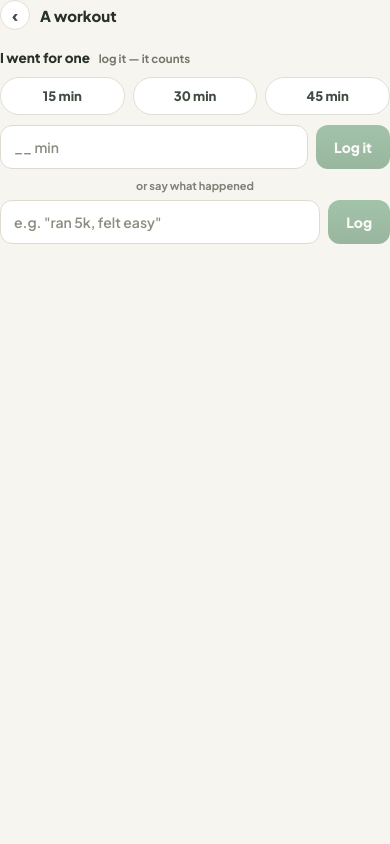
Scenario: QuickAddTense — honest failure keeps the step and shows a note › a duration chip whose log fails never tells the host it logged
The width and height of the screenshot is (390, 844).
Click the button "30 min". click: (195, 96)
box: [133,77,257,115]
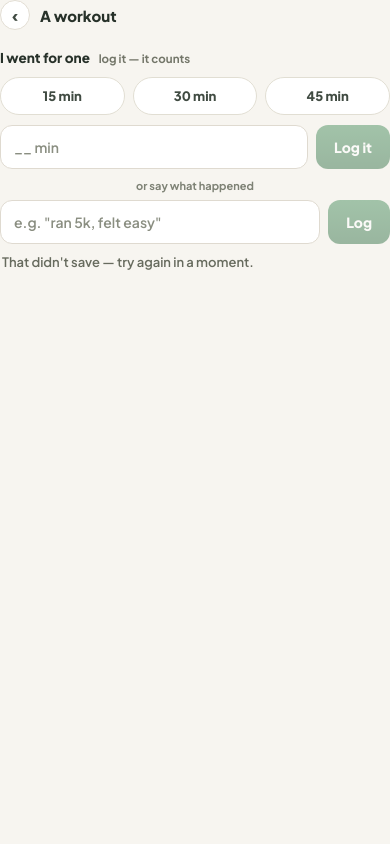
expect the text "That didn't save — try again in a moment." is shown: met, box [2,254,254,270]
